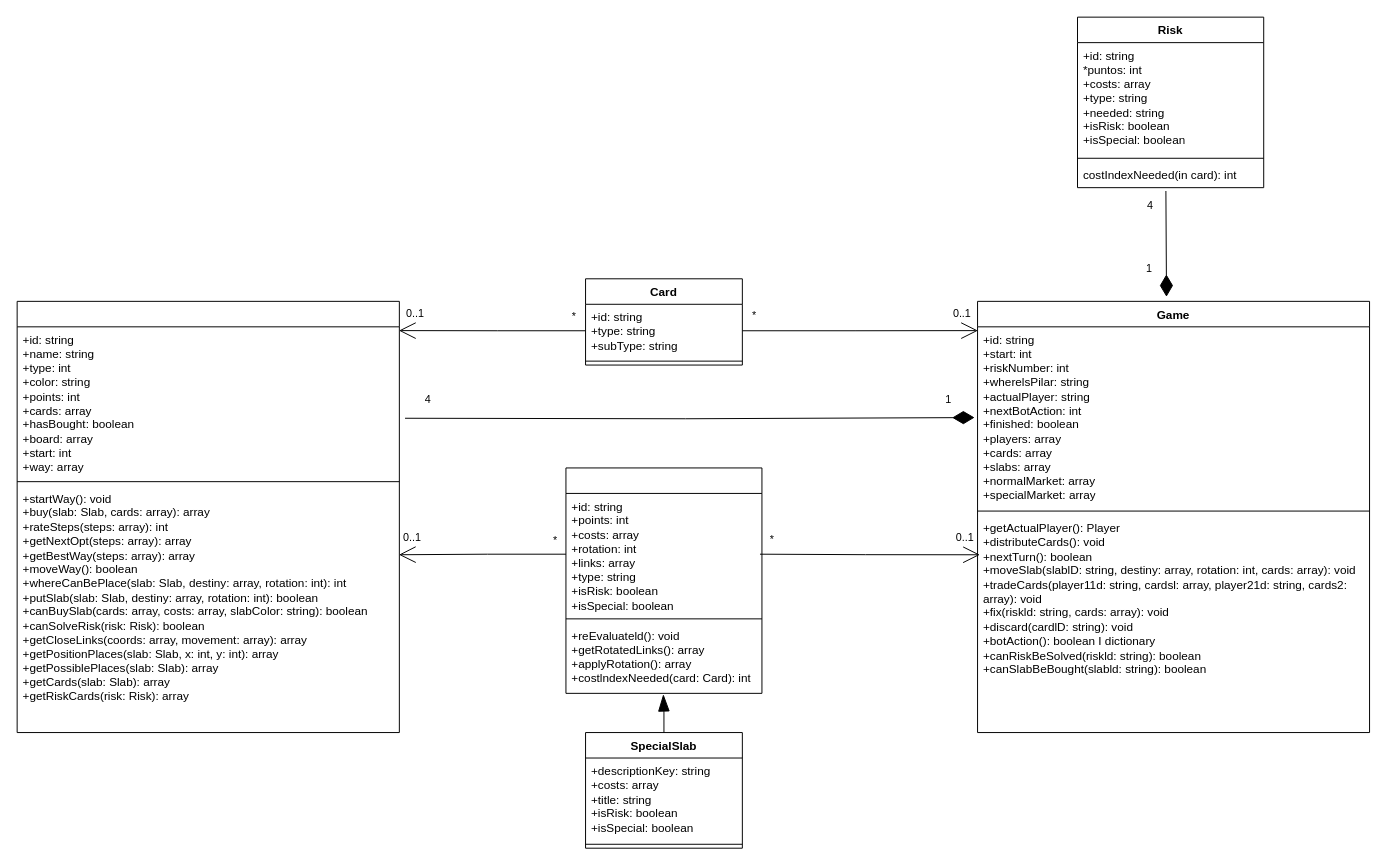
The diagram is 1387 pixels wide and 865 high, and some of its shapes have lost their labels. The shapes that lost their labels are listed below. From the top down, each one's box as (x1, y1, x2, y2) in pixels, then its label:
(16, 300, 399, 733): Player
(565, 467, 762, 693): Slab
